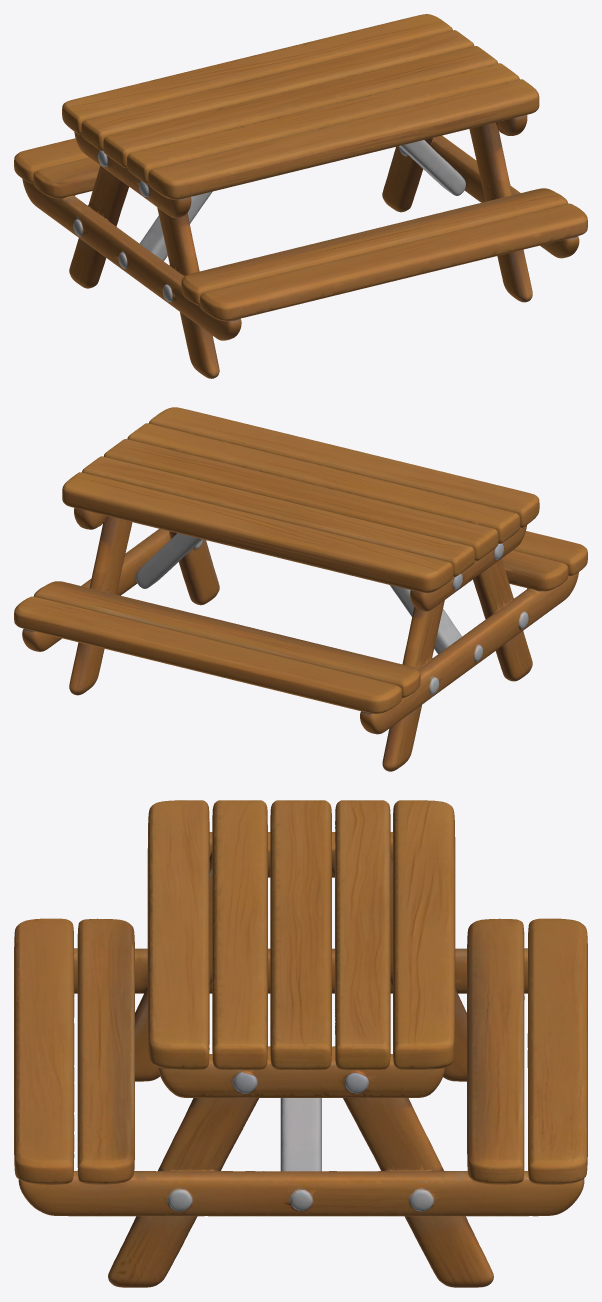
The model's file is CampTable.glb.
3 renders of one model, top to bottom at view 1: azimuth 30°, elevation 25°; view 2: azimuth 150°, elevation 25°; view 3: azimuth 270°, elevation 25°, orthographic. The views are drawn at different scales.
Visible parts, largest first — view 1: tripo_node_3679bafc-27a3-45d7-8e08-697566e786ab; view 2: tripo_node_3679bafc-27a3-45d7-8e08-697566e786ab; view 3: tripo_node_3679bafc-27a3-45d7-8e08-697566e786ab.
Part boxes in pixels (x1,y1,x2,y2): tripo_node_3679bafc-27a3-45d7-8e08-697566e786ab: [14, 14, 587, 378]; tripo_node_3679bafc-27a3-45d7-8e08-697566e786ab: [14, 407, 587, 771]; tripo_node_3679bafc-27a3-45d7-8e08-697566e786ab: [14, 800, 587, 1287].
Bounding box in the file's own units: 1 × 0.4918 × 0.978.
1 material, 1 textured.
